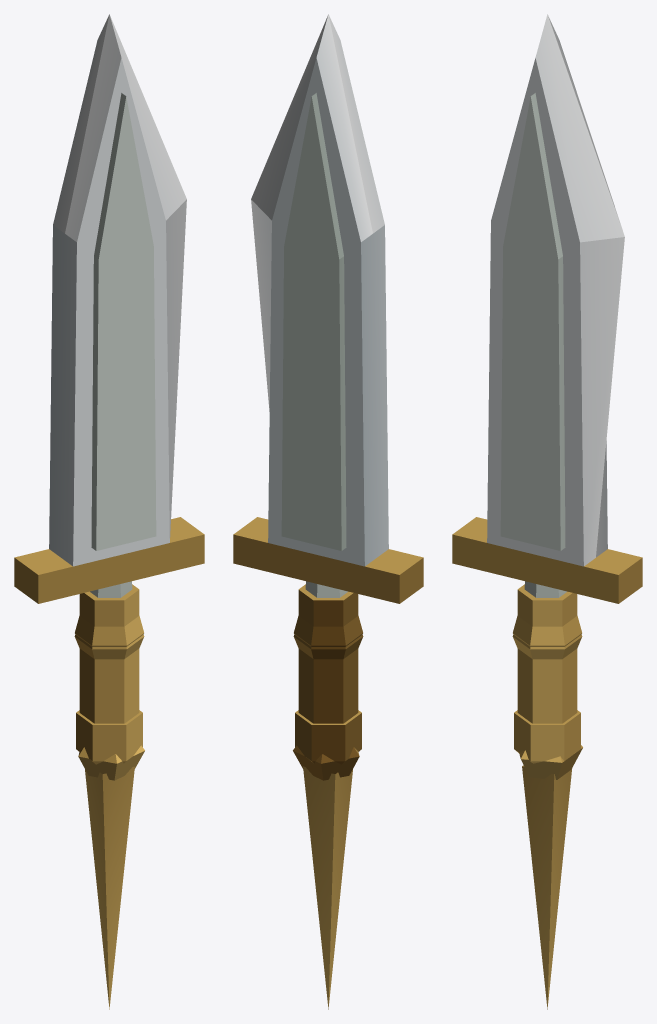
Rendered from ranger_knives_4.gltf.
The picture shows the model from 3 angles, left to right: view 1: azimuth 30°, elevation 25°; view 2: azimuth 150°, elevation 25°; view 3: azimuth 330°, elevation 25°; orthographic projection.
Parts seen in each view (by area): view 1: ranger_knives_4; view 2: ranger_knives_4; view 3: ranger_knives_4.
Part boxes in pixels (x1,y1,x2,y2): ranger_knives_4: (14, 14, 204, 1009); ranger_knives_4: (233, 14, 423, 1009); ranger_knives_4: (452, 14, 642, 1009).
Bounding box in the file's own units: 0.24 × 1.37 × 0.087.
Materials: 1 (1 with a texture image).
